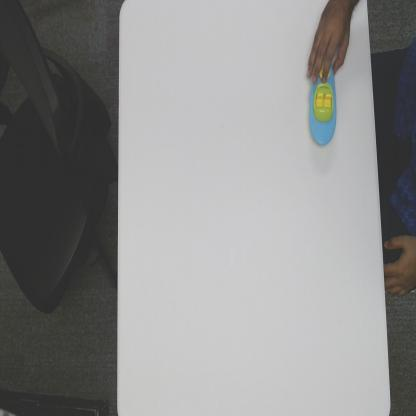Boat: (308, 59, 338, 148)
Hand: (306, 0, 351, 83)
